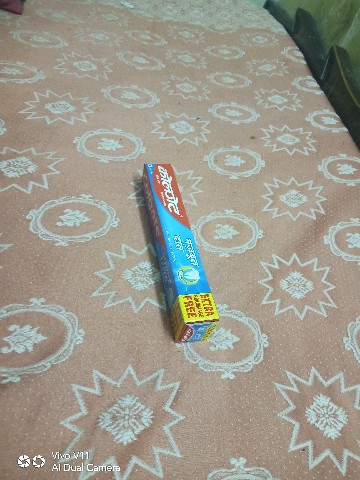colgatetoothpaste big: (135, 149, 231, 352)
